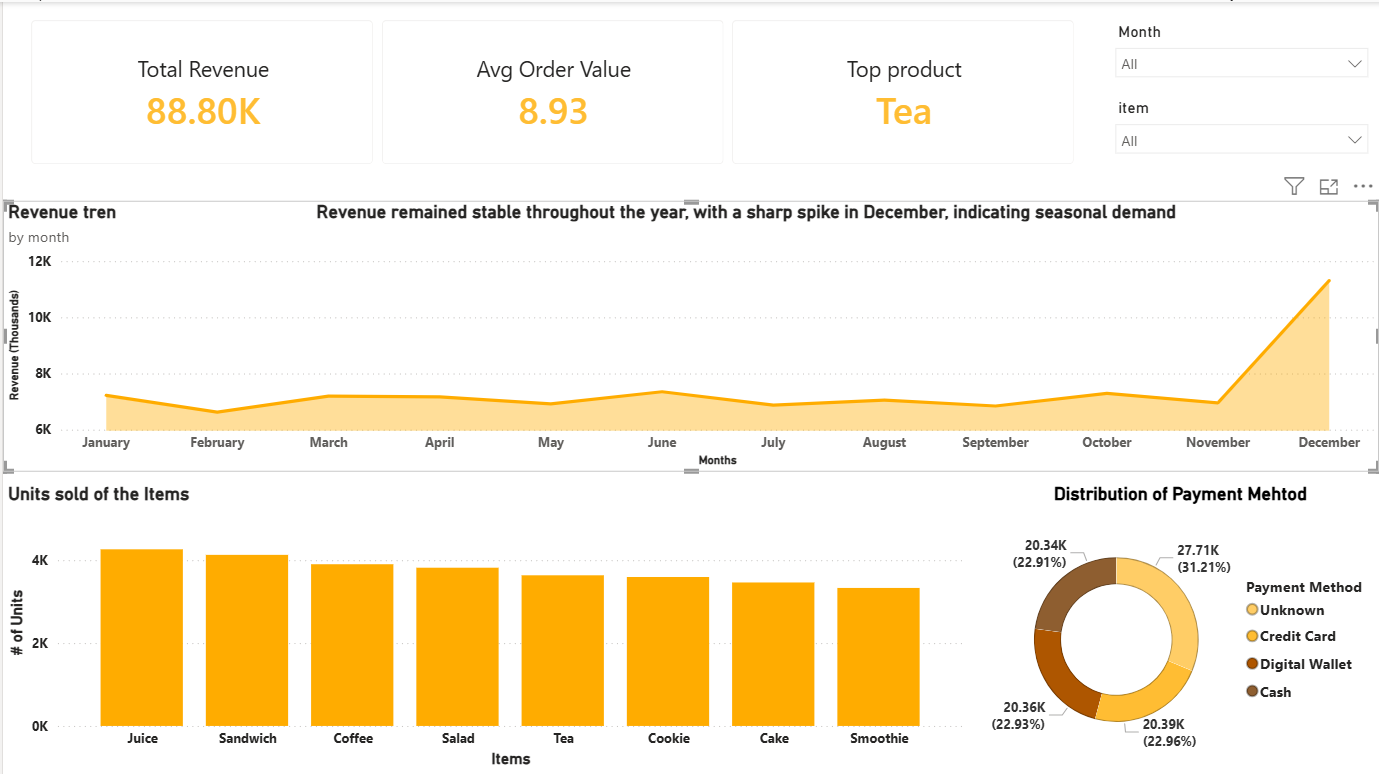

What the dashboard file says about the page in this screenshot:
{"tool":"powerbi","page":{"name":"Page 1","canvas":[1280,720],"ordinal":0},"visuals":[{"type":"cardVisual","fields":{"Data":["clean_cafe_sales.Total Revenue","clean_cafe_sales.Avg Order Value","clean_cafe_sales.top product"]},"box":[9.3,0,1005.8,168.6],"z":0},{"type":"stackedAreaChart","title":"Revenue trend                                       Revenue remained stable throughout the year, with a significant spike in December, indicating seasonal demand","fields":{"Category":["clean_cafe_sales.transaction_date.Variation.Date Hierarchy.Month"],"Y":["Sum(clean_cafe_sales.total_spent)"]},"box":[0,184.9,1280.2,252.3],"z":1000},{"type":"clusteredColumnChart","title":"Units sold of the Items","fields":{"Y":["Sum(clean_cafe_sales.quantity)"],"Category":["clean_cafe_sales.item"]},"box":[0,447.7,898.8,269.8],"z":2000},{"type":"donutChart","title":"Distribution of Payment Mehtod","fields":{"Category":["clean_cafe_sales.payment_method"],"Y":["Sum(clean_cafe_sales.total_spent)"]},"box":[910.5,447.7,369.8,272.1],"z":3000},{"type":"slicer","fields":{"Values":["clean_cafe_sales.transaction_date.Variation.Date Hierarchy.Month"]},"box":[1024.4,14,255.8,70.9],"z":4000},{"type":"slicer","fields":{"Values":["clean_cafe_sales.item"]},"box":[1024.4,84.9,255.8,70.9],"z":5000}]}

Visuals, with their boxes in screenshot pixels (x1, y1, x2, y2), scaled from the page's 1280x720 canvas onto the 1379x774 screenshot:
cardVisual - clean_cafe_sales.Total Revenue x clean_cafe_sales.Avg Order Value: {"left": 10, "top": 0, "right": 1094, "bottom": 181}
"Revenue trend                                       Revenue remained stable throughout the year, with a significant spike in December, indicating seasonal demand" stackedAreaChart: {"left": 0, "top": 199, "right": 1378, "bottom": 470}
"Units sold of the Items" clusteredColumnChart: {"left": 0, "top": 481, "right": 968, "bottom": 771}
"Distribution of Payment Mehtod" donutChart: {"left": 981, "top": 481, "right": 1378, "bottom": 773}
slicer - clean_cafe_sales.transaction_date.Variation.Date Hierarchy.Month: {"left": 1104, "top": 15, "right": 1378, "bottom": 91}
slicer - clean_cafe_sales.item: {"left": 1104, "top": 91, "right": 1378, "bottom": 167}
